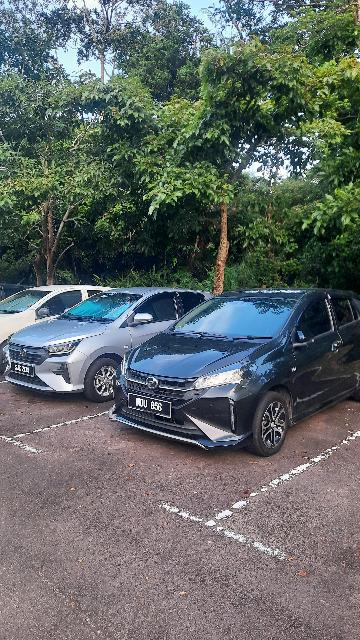License_Plate: (127, 393, 177, 421), (10, 363, 42, 380)
car: (112, 285, 360, 459), (5, 286, 222, 406)
